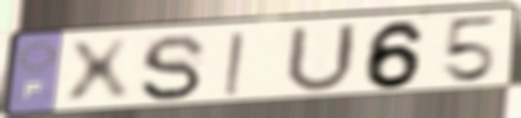5: (437, 13, 504, 85)
6: (360, 18, 431, 91)
I: (221, 30, 246, 99)
S: (137, 32, 211, 103)
U: (281, 22, 361, 96)
X: (63, 36, 134, 108)
